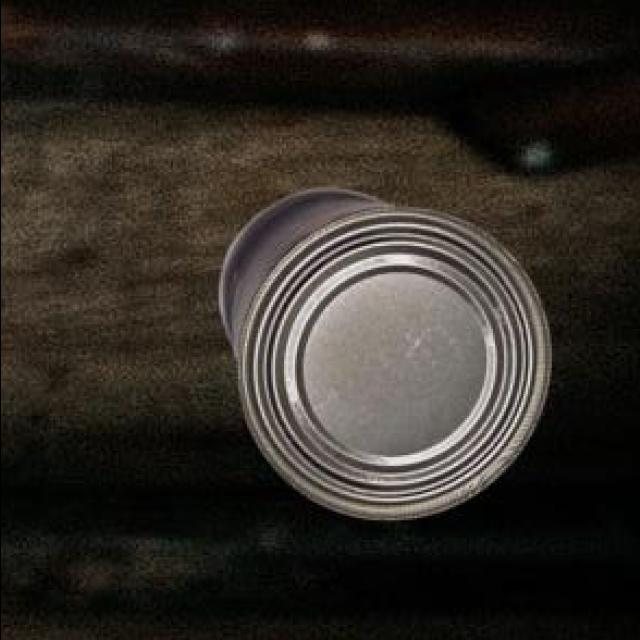logam: (223, 193, 552, 524)
